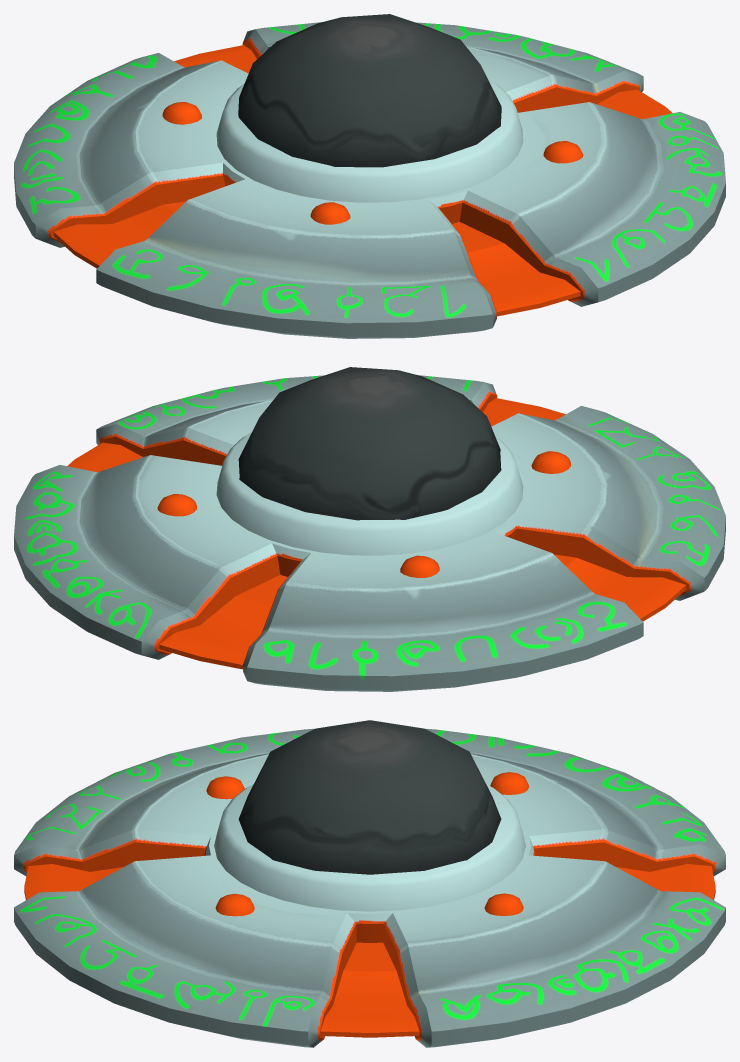
The model's file is ufo.fbx.
3 renders of one model, top to bottom at view 1: azimuth 30°, elevation 25°; view 2: azimuth 150°, elevation 25°; view 3: azimuth 270°, elevation 25°, orthographic.
Parts seen in each view (by area): view 1: Cube; view 2: Cube; view 3: Cube.
Part boxes in pixels (x1,y1,x2,y2): Cube: (14, 14, 725, 338); Cube: (14, 367, 725, 691); Cube: (14, 720, 725, 1047).
Size of the model in its own units: 363 by 140 by 363.
Materials: 1 (1 with a texture image).
